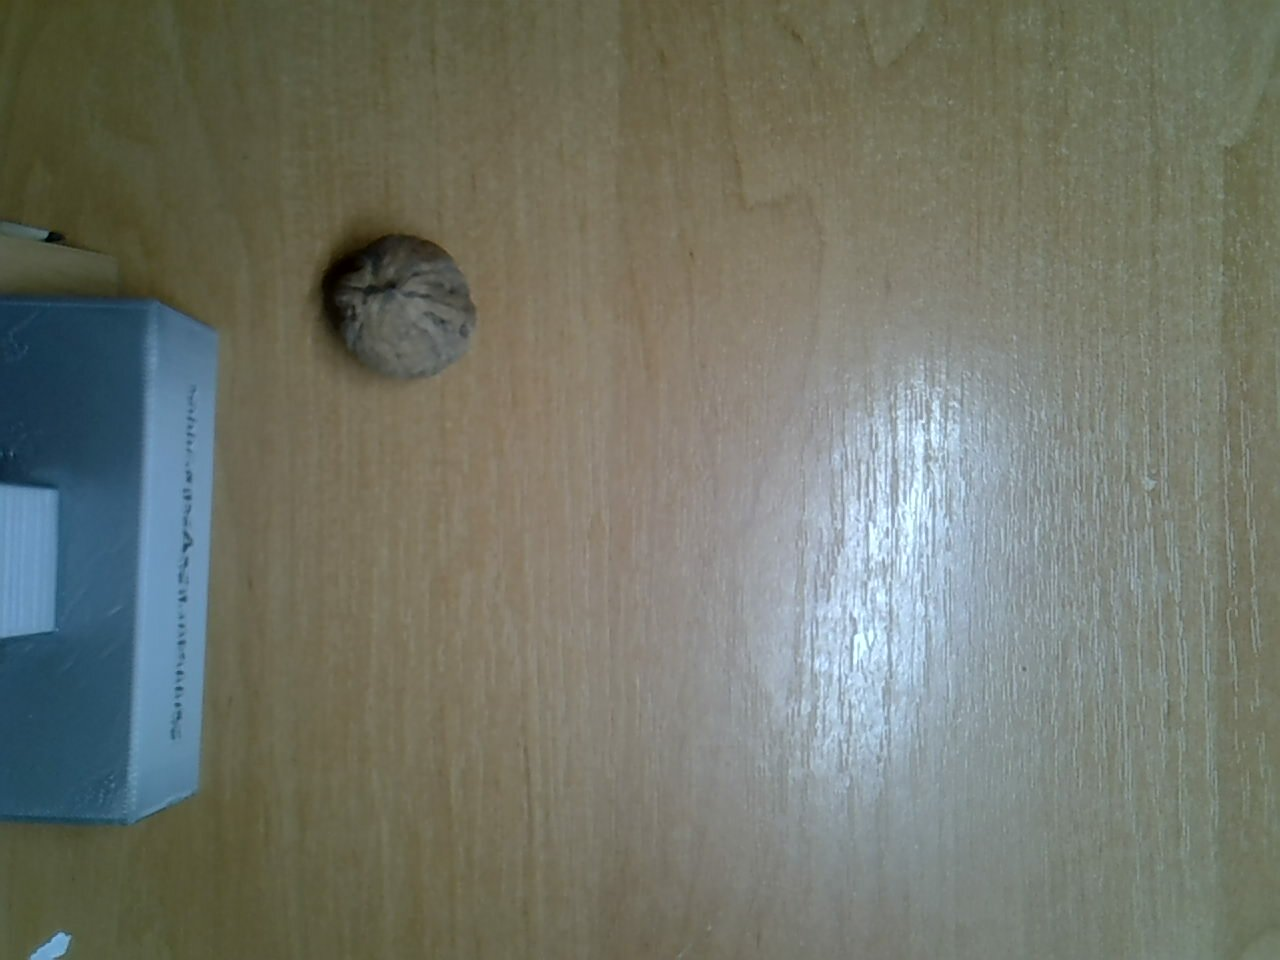nut: (322, 230, 482, 385)
